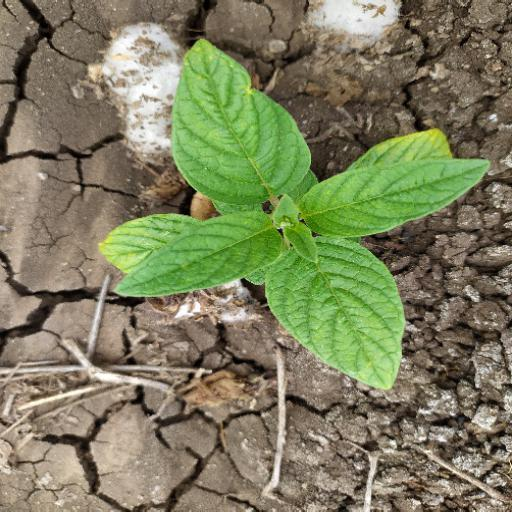crop: (88, 43, 487, 399)
